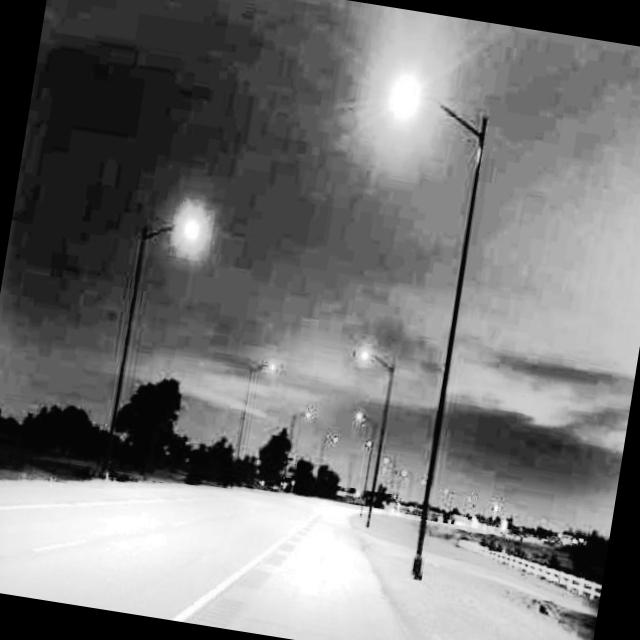Light: (319, 81, 498, 580), (101, 212, 201, 489), (334, 349, 397, 528), (230, 361, 275, 492), (280, 411, 311, 493), (315, 435, 338, 496)
